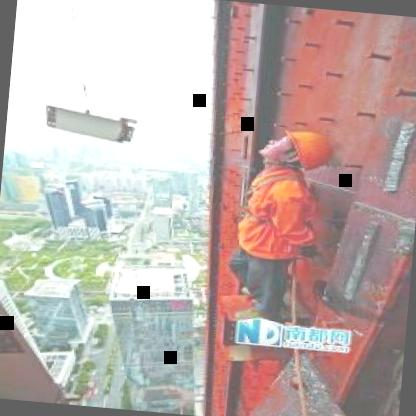helmet: (257, 126, 336, 176)
